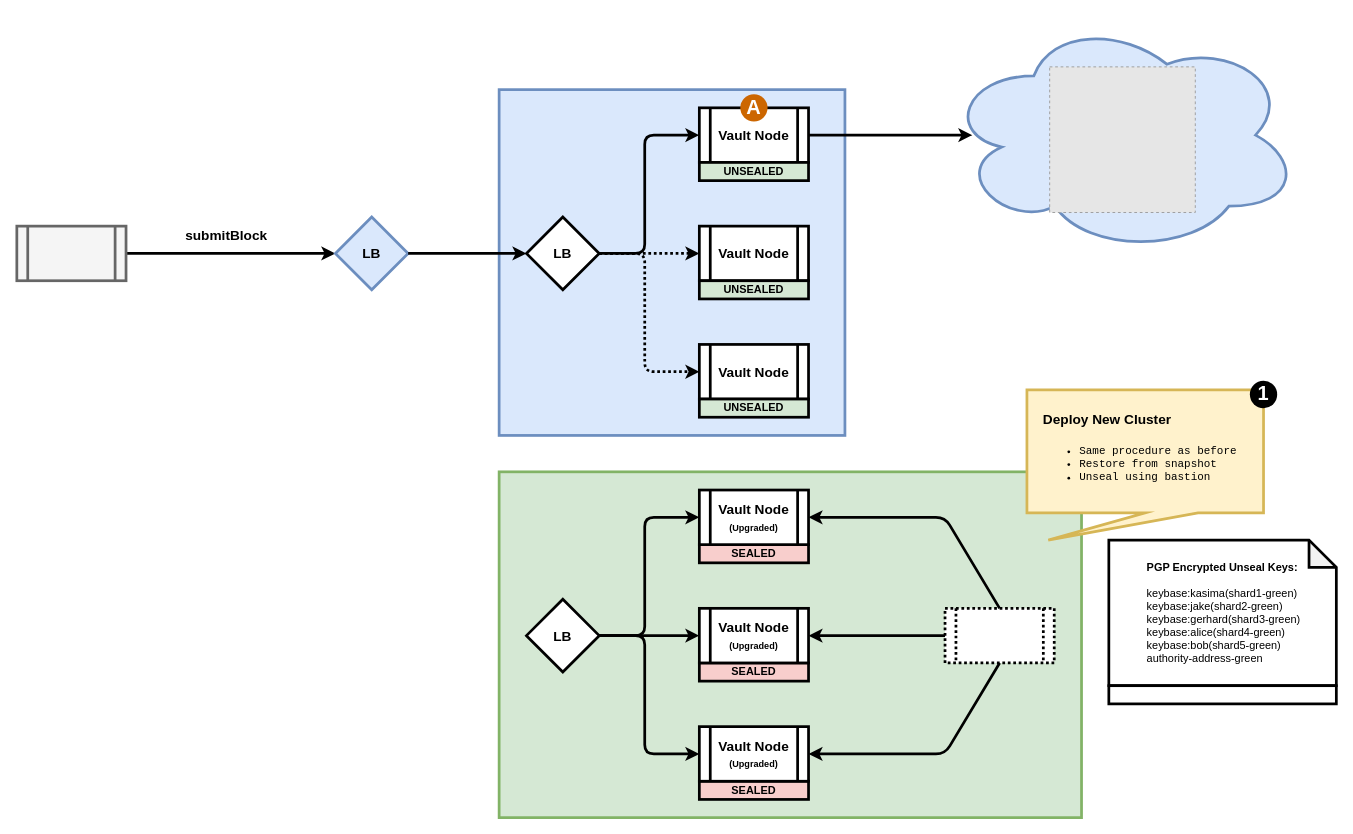
The diagram is 1353 pixels wide and 834 high, and some of its shapes have lost their labels. Grey dashed boxes stand in for pictures. The shapes that lost their labels are listed below. From the top down, each one's centre as x and y in pixels, then its label:
At (71,253): "OmiseGO Client".
At (999,635): "Ephemeral Bastion".
At (1222,694): "OUTPUTS".
